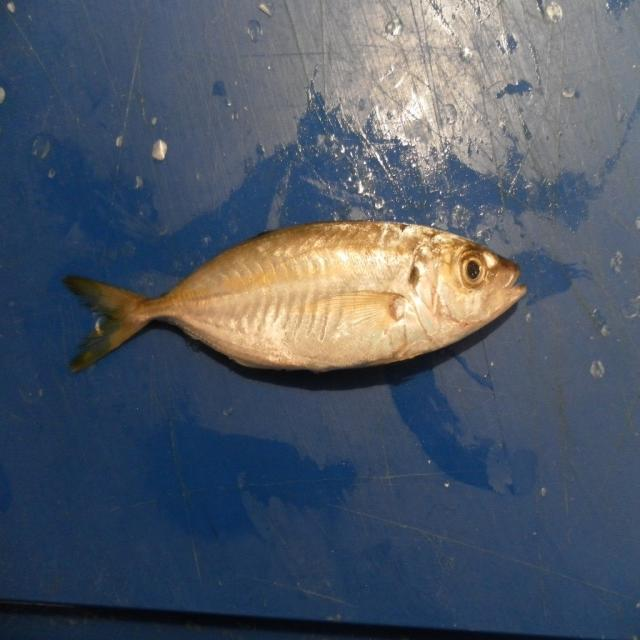Hourse-Mackerel-istavrit-: (64, 222, 527, 376)
